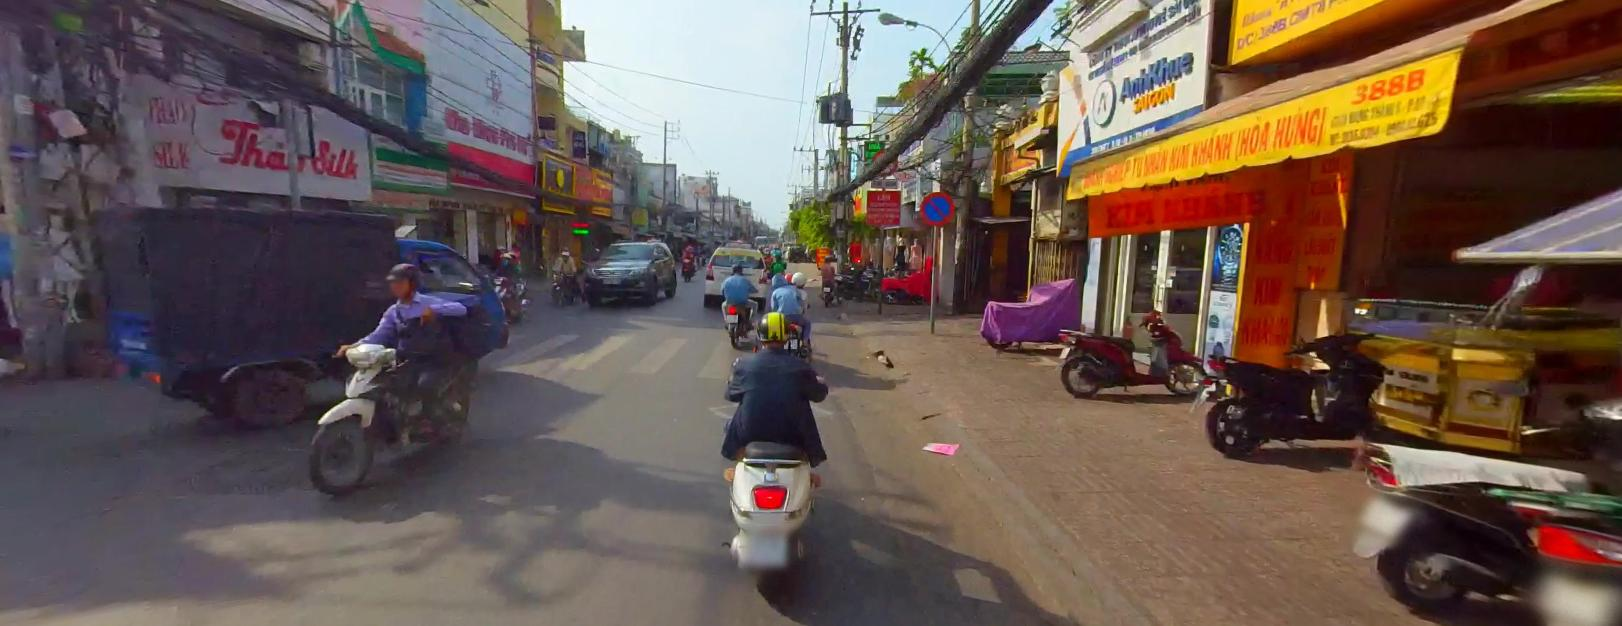Cam dung va do: (918, 188, 955, 225)
